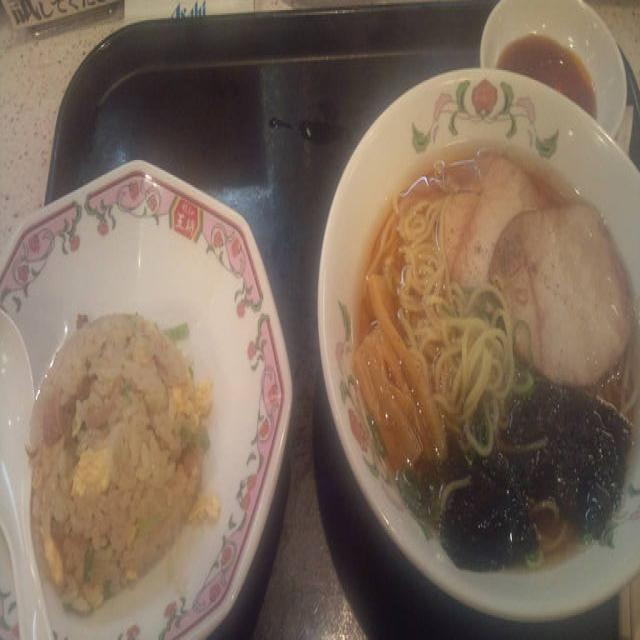米饭主食: (12, 285, 224, 603)
面条主食: (348, 108, 640, 572)
